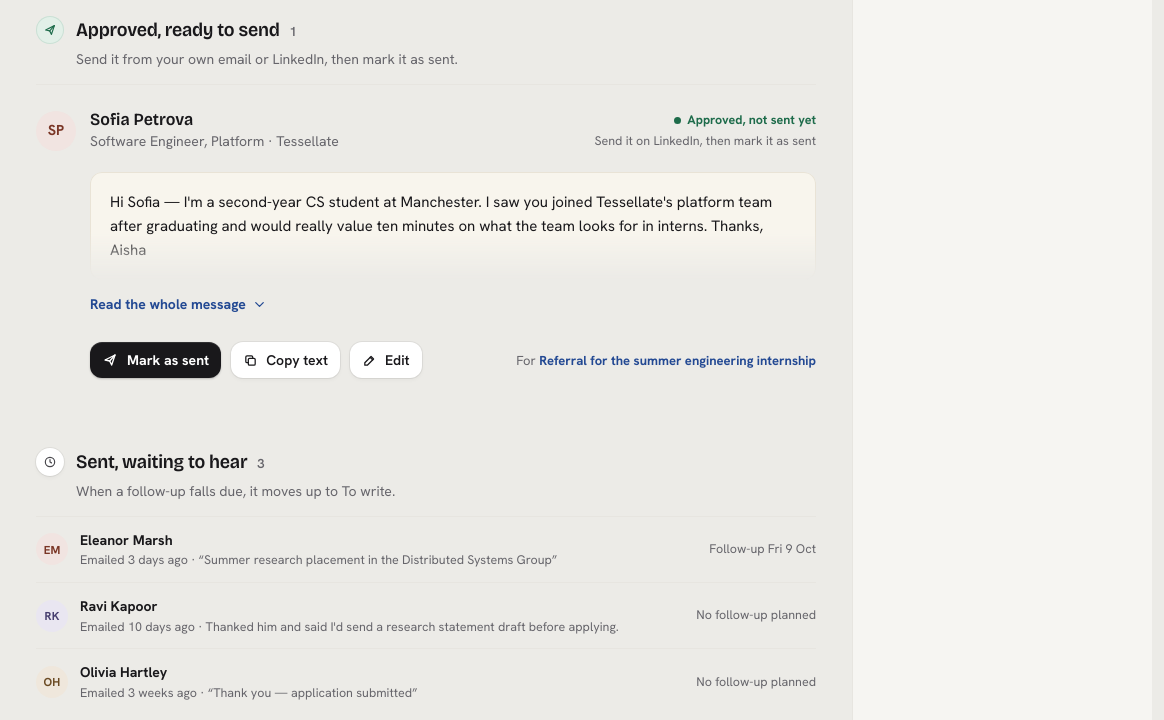
Test: production Outreach — approval workflow › mark as sent records what you sent yourself, and a reload still has it
(page scrolled)
// Final (D-030), so deliberate: the first press asks, the second records.
Click the button "Mark as sent": [156, 360] box [90,342,221,378]
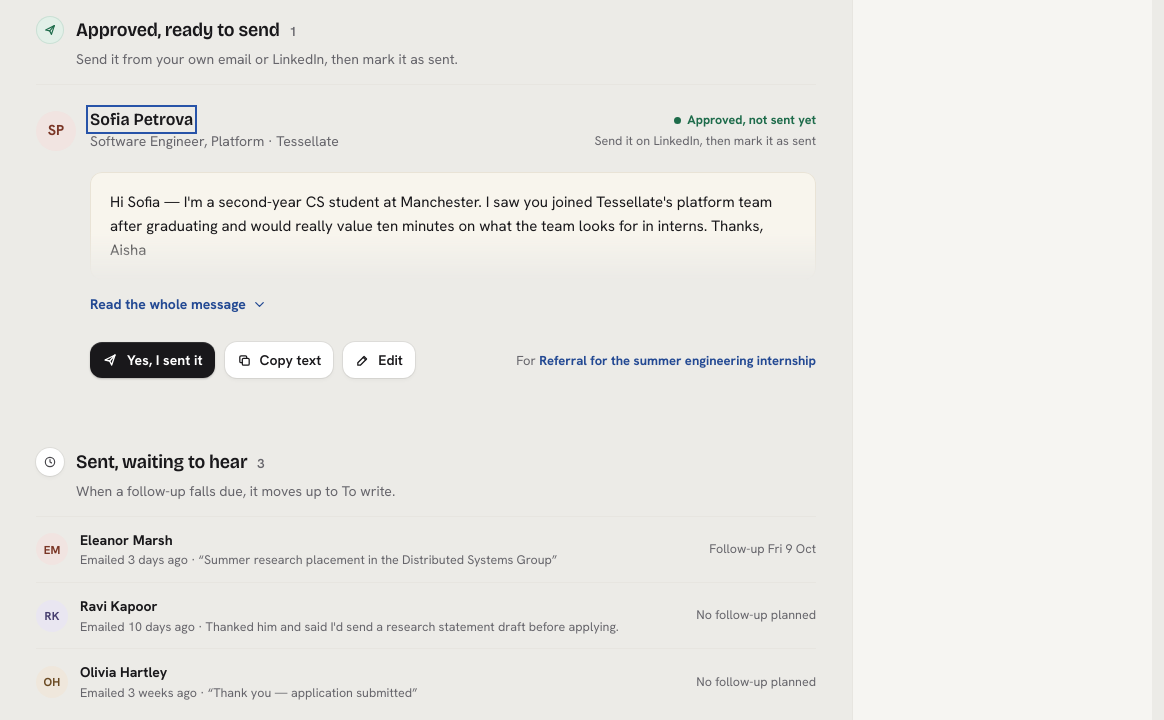
Expected: the element "Sent, waiting to hear" does not show "Sofia Petrova", [36,448,816,715]
Click the button "Yes, I sent it": [152, 360] box [90,342,214,378]
(page scrolled)
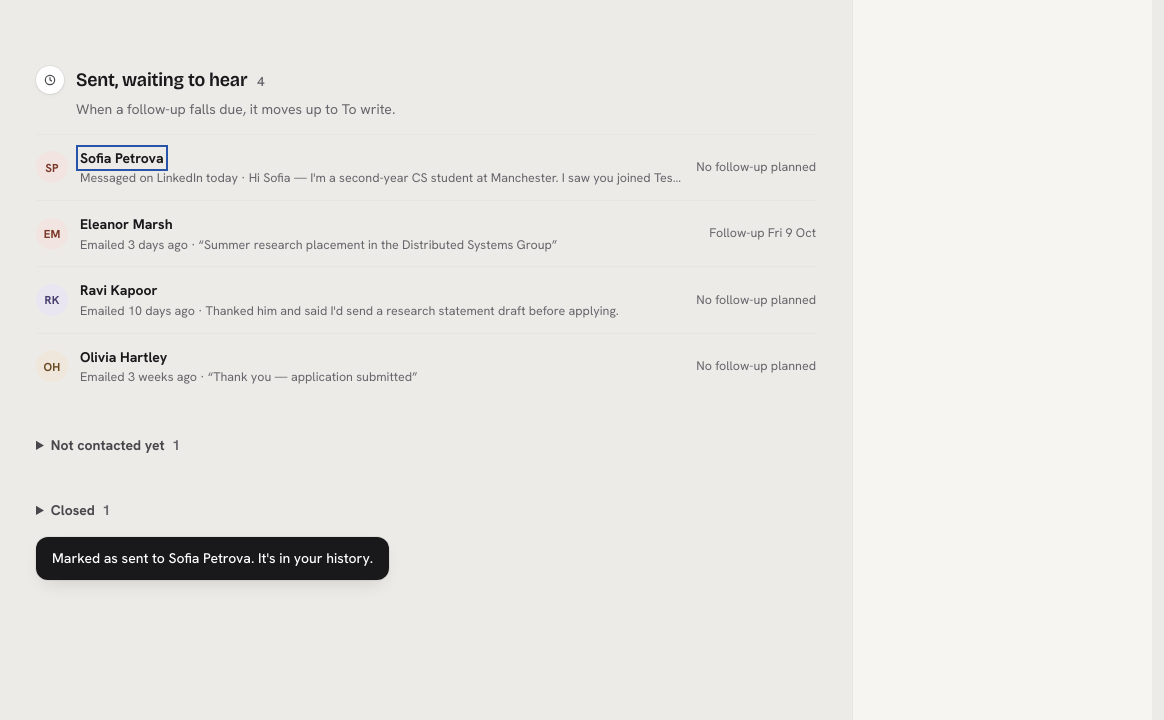
Expected: the link "Sofia Petrova" is shown, [80,149,164,167]
Now the message reads "Marked as sent to Sofia Petrova. It's in your history.", box [52,549,373,567]
Now the heading "Approved, ready to send" is gone
